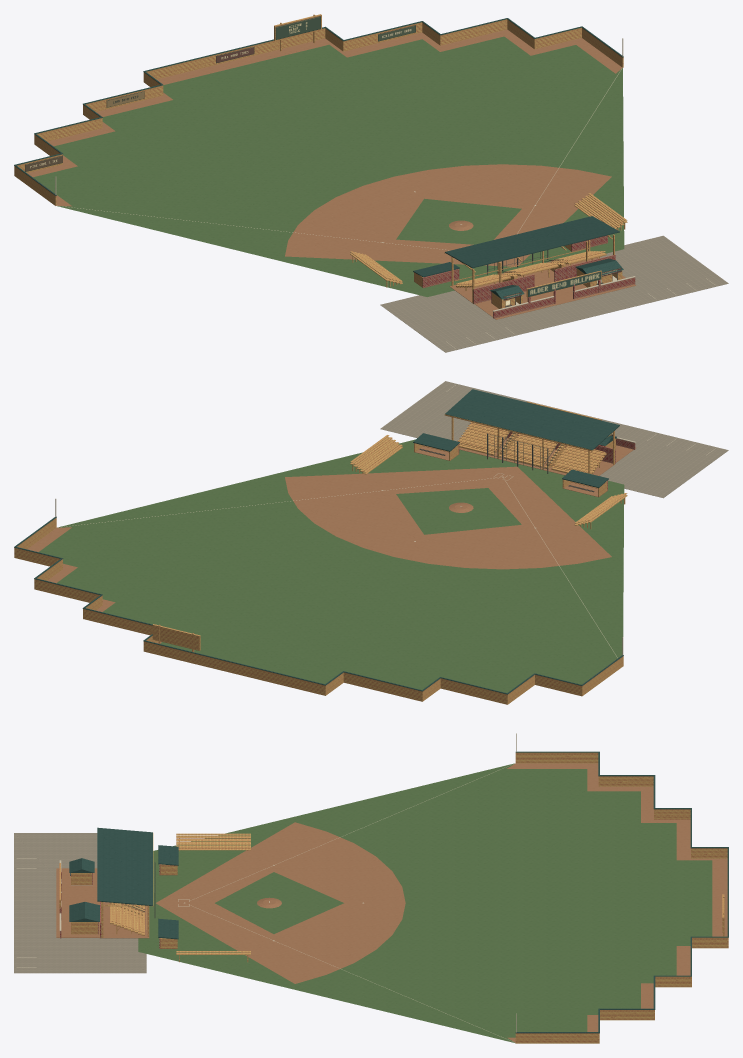
File: alder-bend-1935-mid.glb
The picture shows the model from 3 angles, top to bottom: view 1: azimuth 30°, elevation 25°; view 2: azimuth 150°, elevation 25°; view 3: azimuth 270°, elevation 25°; orthographic projection.
Visible parts, largest first — view 1: diamond, lot, outfield_fence, grandstand, park_buildings, line_bleachers, sign_name, sign_scoreboard; view 2: diamond, outfield_fence, grandstand, lot, park_buildings, line_bleachers; view 3: diamond, lot, outfield_fence, grandstand, park_buildings, line_bleachers.
Part boxes in pixels (bbox=[...]): diamond: bbox=[27, 29, 624, 297]; lot: bbox=[380, 235, 728, 352]; outfield_fence: bbox=[14, 14, 623, 205]; grandstand: bbox=[444, 216, 619, 304]; park_buildings: bbox=[413, 235, 635, 318]; line_bleachers: bbox=[350, 193, 627, 287]; sign_name: bbox=[528, 271, 601, 296]; sign_scoreboard: bbox=[275, 16, 320, 39]; diamond: bbox=[27, 433, 624, 692]; outfield_fence: bbox=[14, 498, 623, 704]; grandstand: bbox=[444, 389, 619, 475]; lot: bbox=[380, 381, 728, 498]; park_buildings: bbox=[413, 401, 635, 497]; line_bleachers: bbox=[350, 435, 627, 529]; diamond: bbox=[138, 763, 727, 1043]; lot: bbox=[14, 833, 146, 973]; outfield_fence: bbox=[515, 733, 728, 1043]; grandstand: bbox=[97, 827, 153, 938]; park_buildings: bbox=[59, 845, 178, 948]; line_bleachers: bbox=[176, 833, 250, 962].
Size of what is drawn, in the model's own units: 144 by 9.38 by 155.
Materials: 10 (10 with a texture image).
